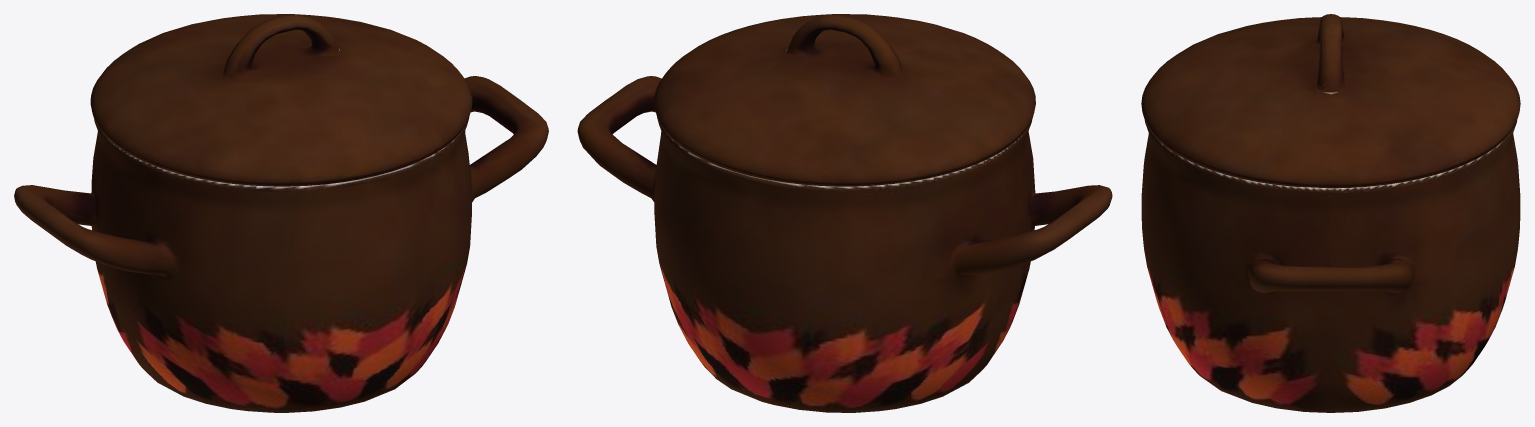
File: pot.glb
3 views of the same model, side by side, from view 1: azimuth 30°, elevation 25°; view 2: azimuth 150°, elevation 25°; view 3: azimuth 270°, elevation 25° (orthographic).
Visible parts, largest first — view 1: pot_enamel_01_base, pot_enamel_01_lid; view 2: pot_enamel_01_base, pot_enamel_01_lid; view 3: pot_enamel_01_base, pot_enamel_01_lid.
Boxes of the visible parts, x1,y1,x2,y2 form: pot_enamel_01_base: (14,76,548,412); pot_enamel_01_lid: (90,14,472,186); pot_enamel_01_base: (577,76,1112,412); pot_enamel_01_lid: (654,14,1035,186); pot_enamel_01_base: (1141,120,1520,412); pot_enamel_01_lid: (1141,14,1520,188).
Size of the model in its own units: 0.2627 by 0.1782 by 0.1805.
Materials: 1 (1 with a texture image).
